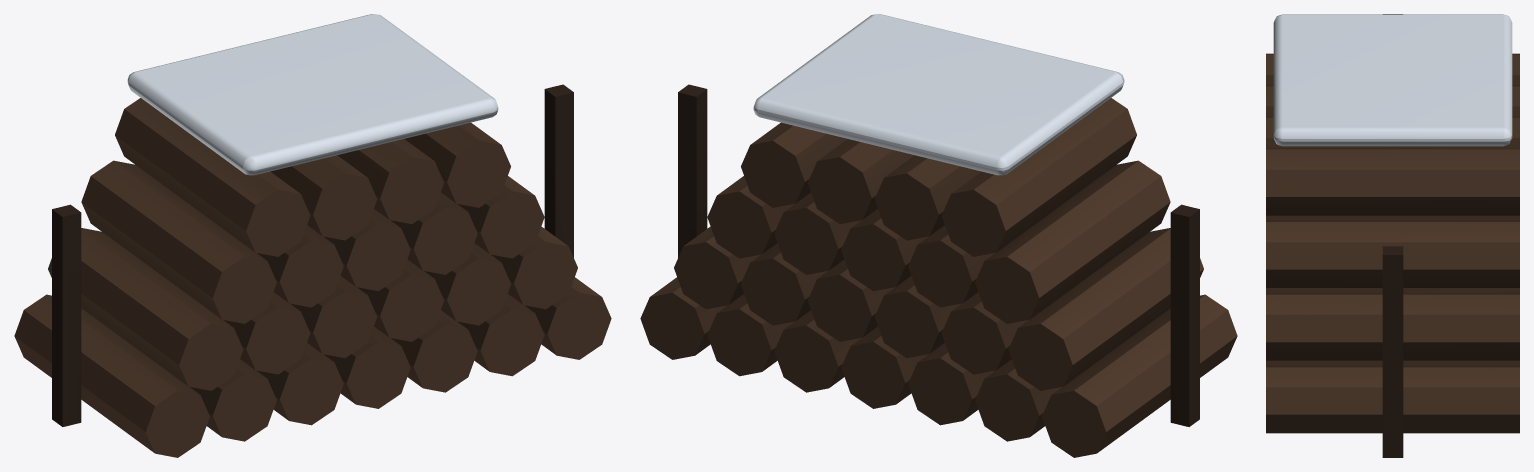
The model's file is firewood_stack.glb.
The picture shows the model from 3 angles, left to right: view 1: azimuth 30°, elevation 25°; view 2: azimuth 150°, elevation 25°; view 3: azimuth 270°, elevation 25°; orthographic projection. The views are drawn at different scales.
Parts seen in each view (by area): view 1: FirewoodStack; view 2: FirewoodStack; view 3: FirewoodStack.
Boxes of the visible parts, bbox=[...] form: FirewoodStack: bbox=[14, 14, 611, 457]; FirewoodStack: bbox=[640, 14, 1237, 457]; FirewoodStack: bbox=[1266, 14, 1519, 457].
Size of the model in its own units: 1.91 by 0.985 by 0.85.
